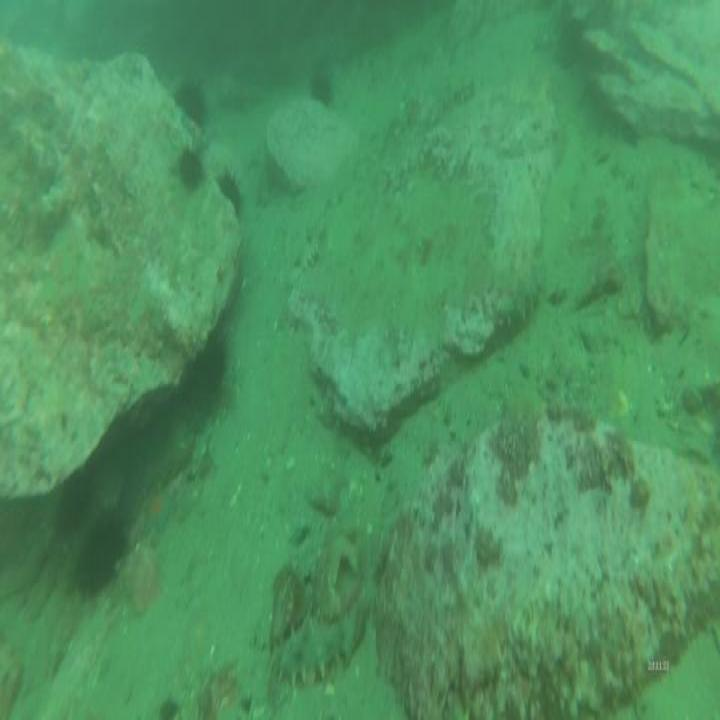echinus: (69, 492, 134, 608), (171, 69, 215, 137), (171, 137, 215, 197), (211, 158, 249, 226)
holothurian: (277, 610, 366, 684)
